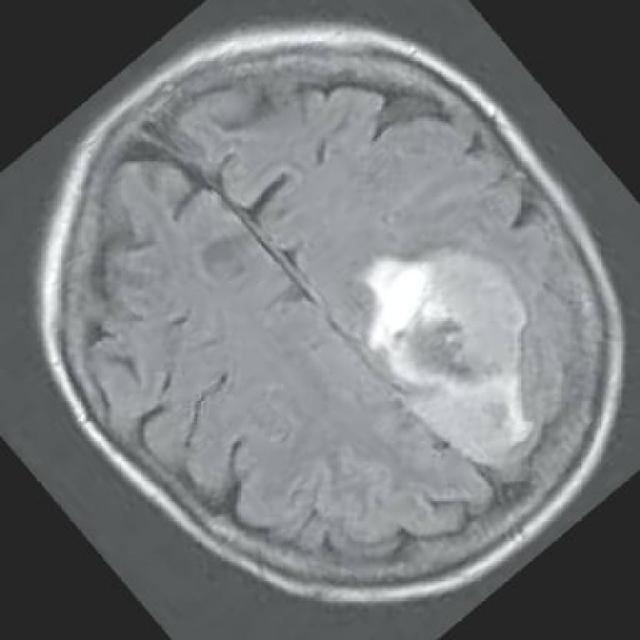Brain-Tumor: (352, 236, 554, 486)
